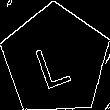L_N: (33, 31, 78, 89)
